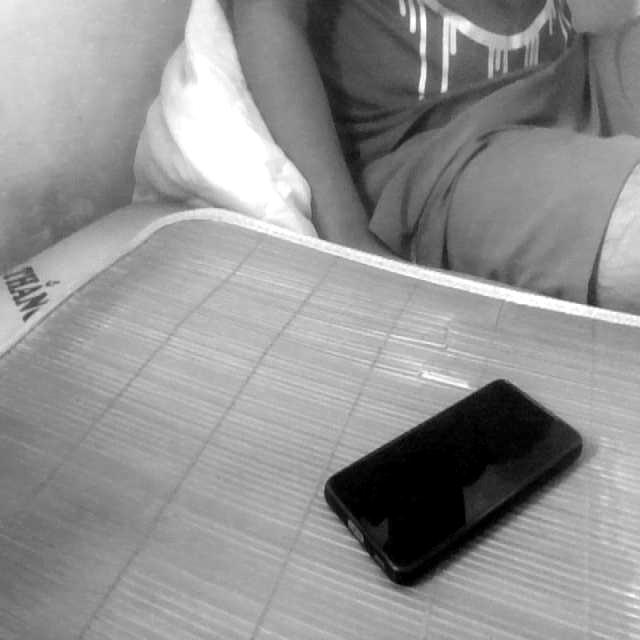phone: (322, 366, 592, 591)
